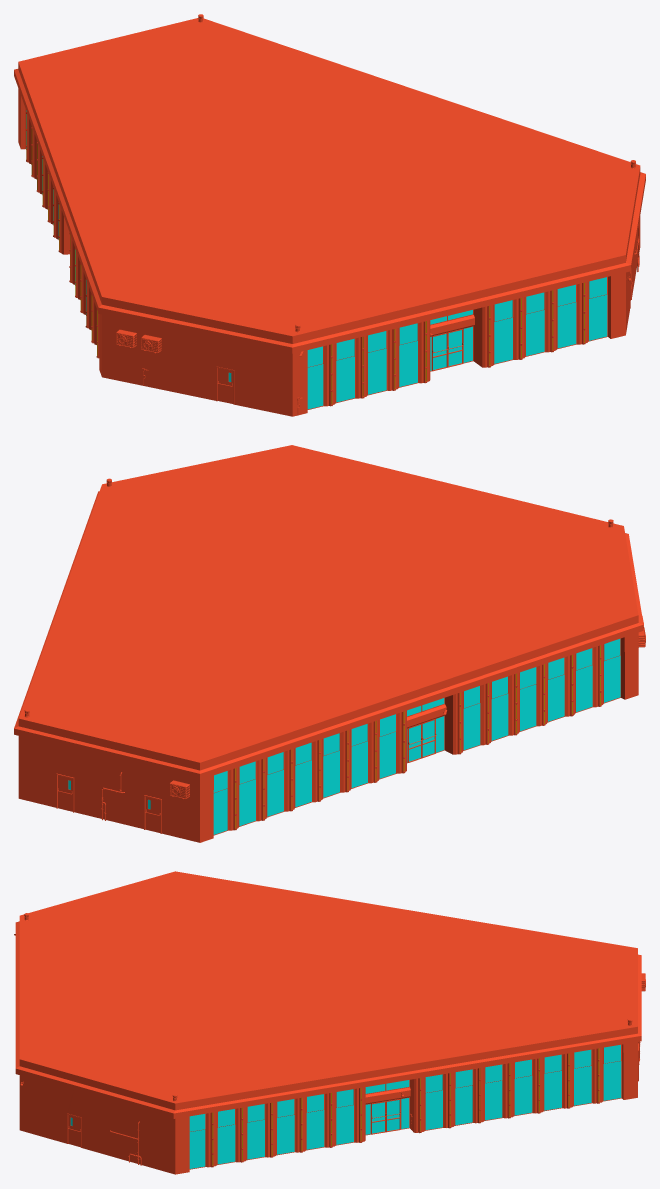
Rendered from SM_Skyscraper_C_Base_City.fbx.
3 views of the same model, one above another, from view 1: azimuth 30°, elevation 25°; view 2: azimuth 150°, elevation 25°; view 3: azimuth 270°, elevation 25° (orthographic). The views are drawn at different scales.
Visible parts, largest first — view 1: SM_Skyscraper_C_Base_City; view 2: SM_Skyscraper_C_Base_City; view 3: SM_Skyscraper_C_Base_City.
Boxes of the visible parts, x1,y1,x2,y2 form: SM_Skyscraper_C_Base_City: (14,14,645,416); SM_Skyscraper_C_Base_City: (14,445,645,842); SM_Skyscraper_C_Base_City: (14,871,645,1174).
Size of the model in its own units: 35.61 by 5.4 by 40.3.
